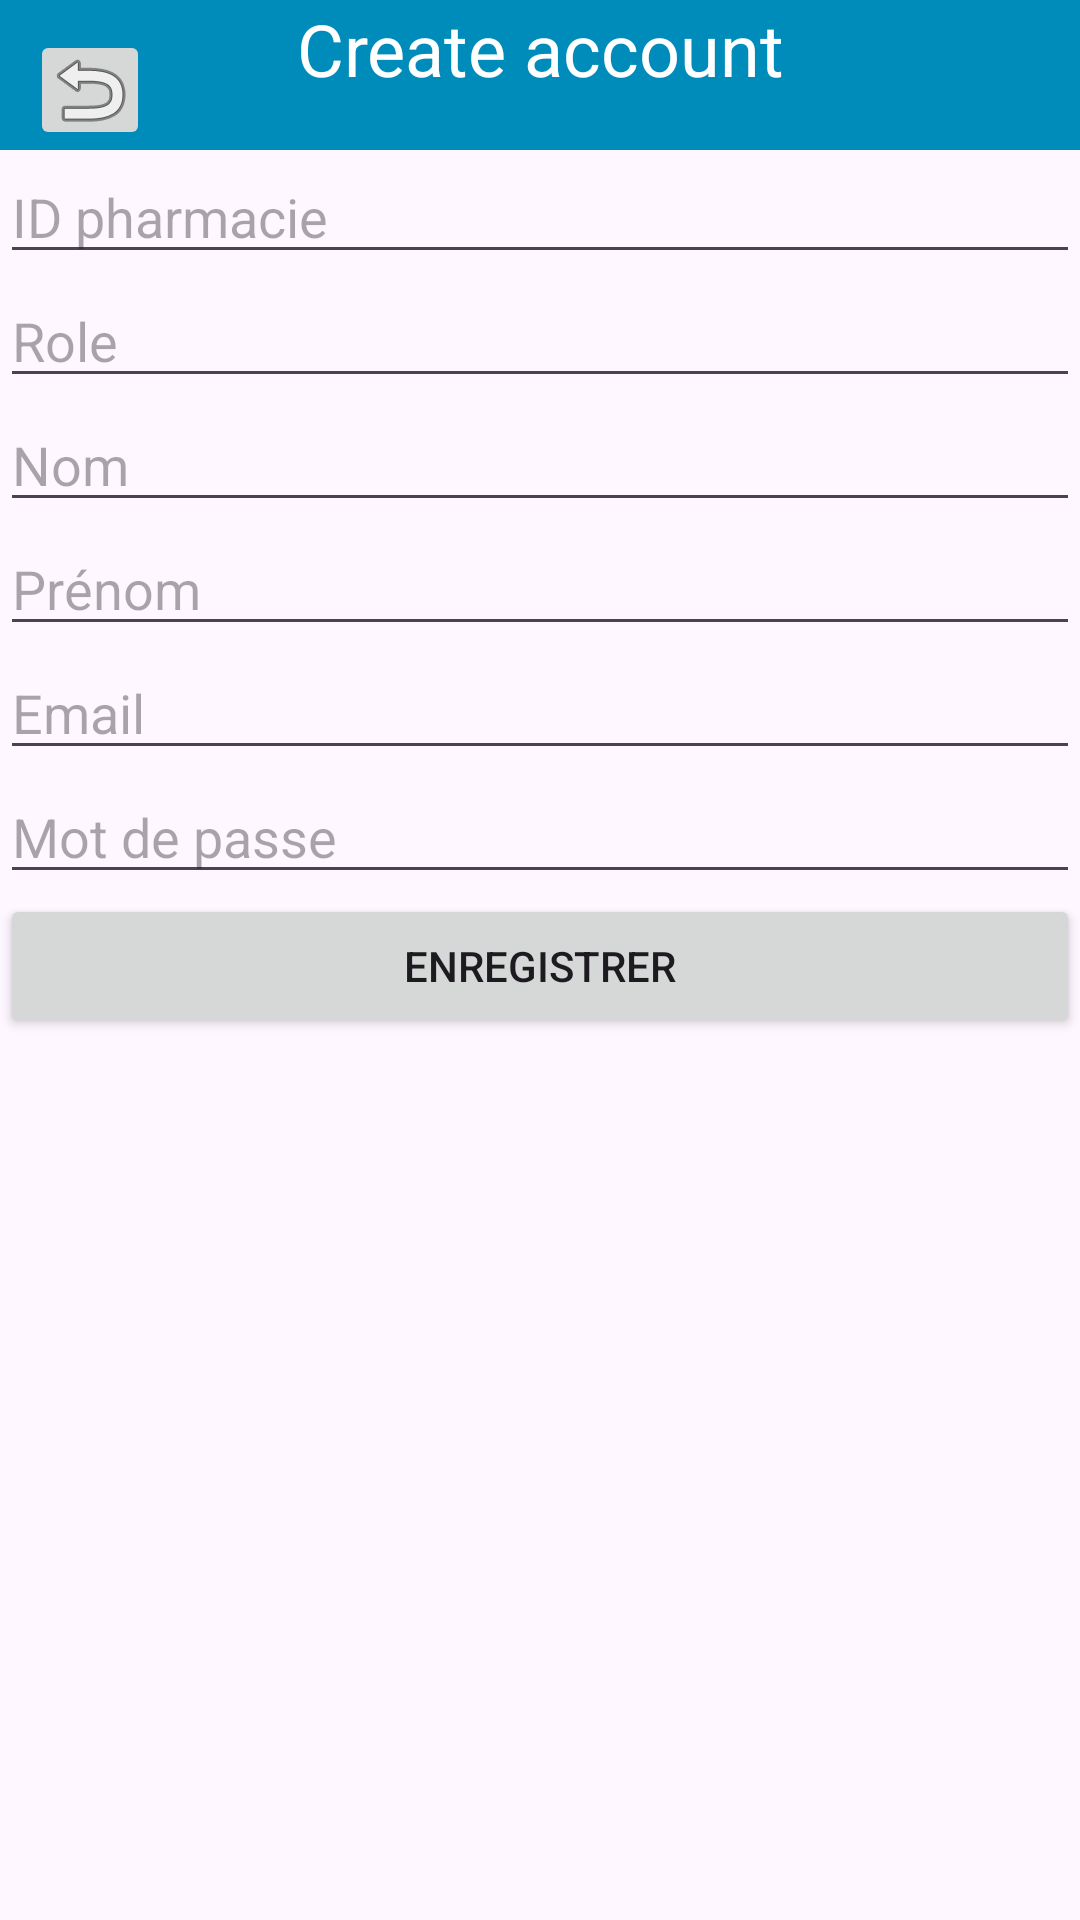

Screen size 1080px×1920px. Icon name, then its center in pixels as [x,y]:
revert: [90,90]
